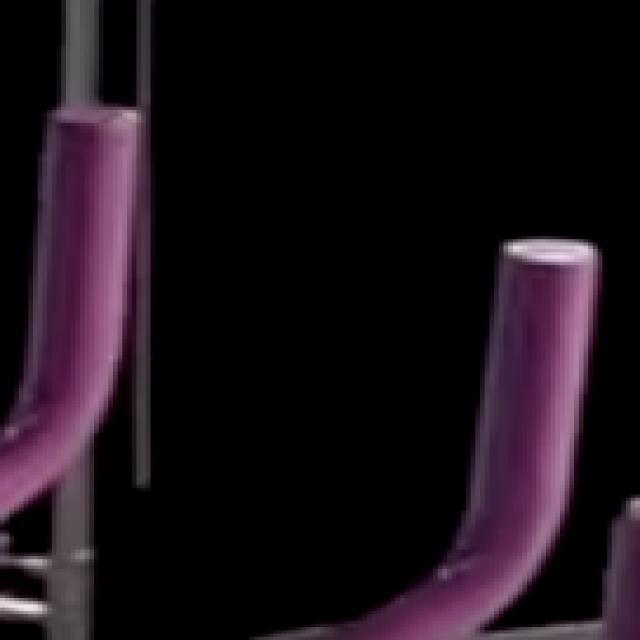Reef: (455, 238, 596, 552), (14, 108, 140, 427)
